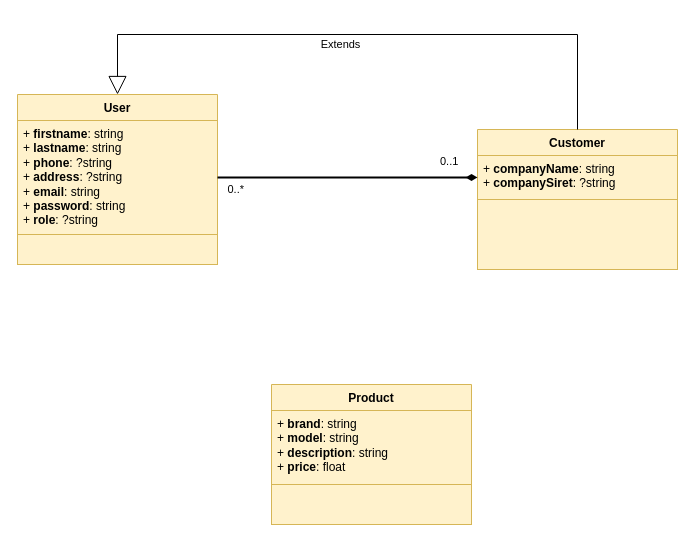
Image size: 695x545. Some labels were removed from this diagram. The centre of each missing label's shape, as x and y in pixels:
"+ login()" belongs at pixel 117 249.
"+ showProducts() + showProduct(idProduct)" belongs at pixel 371 504.
"+ showUsers() + showUser(idUser) + addUser(formData) + deleteUser(idUser)" belongs at pixel 577 234.
